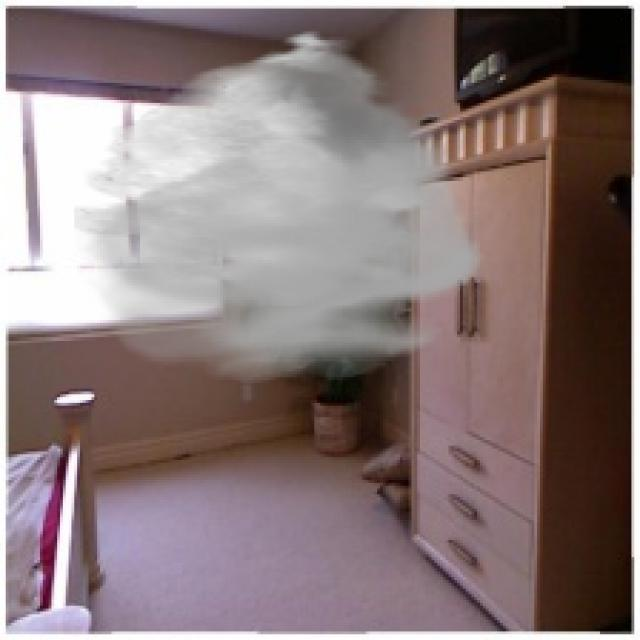Smoke: (74, 28, 489, 383)
